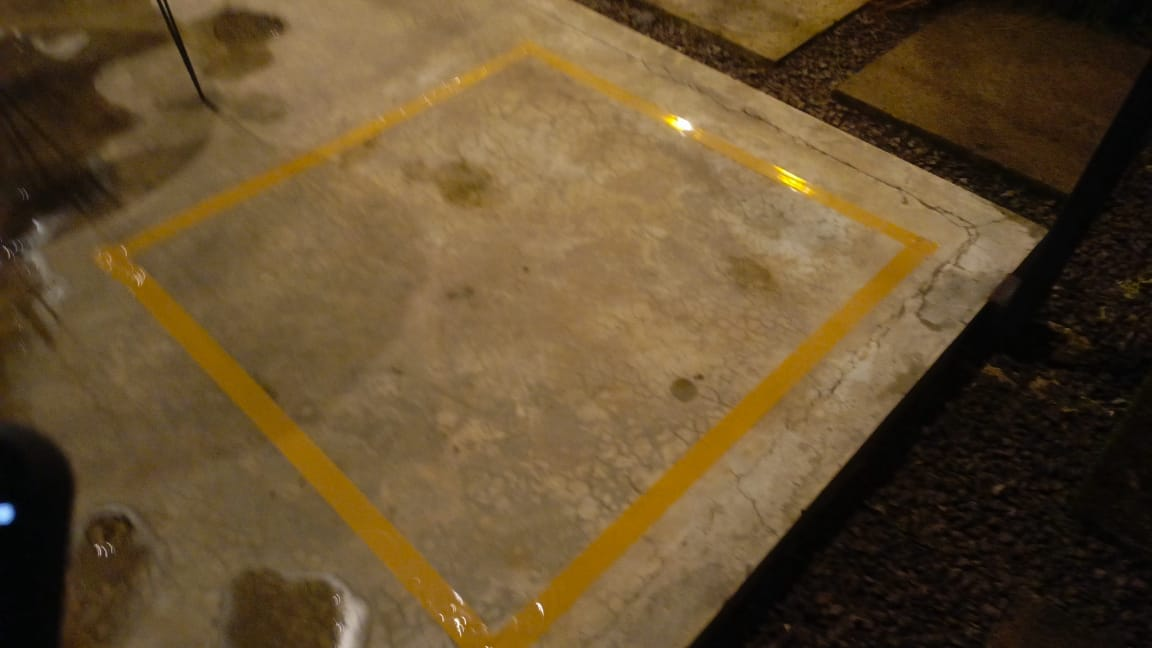floor marking: (96, 46, 935, 647)
